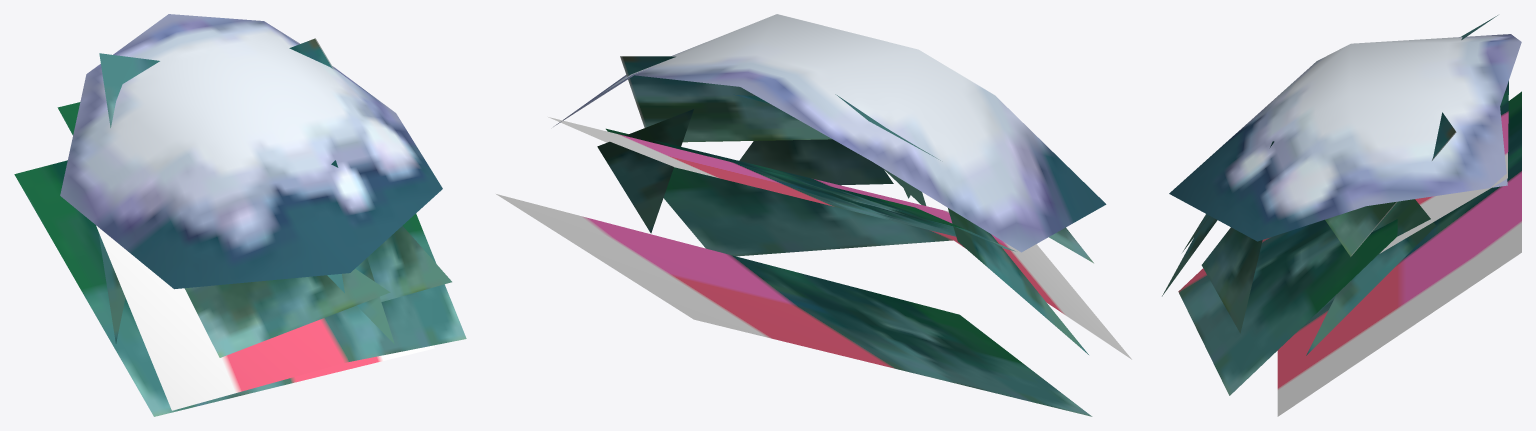
The model's file is fg_bushA_2_s.dae.
3 renders of one model, left to right at view 1: azimuth 30°, elevation 25°; view 2: azimuth 150°, elevation 25°; view 3: azimuth 270°, elevation 25°, orthographic. The views are drawn at different scales.
Visible parts, largest first — view 1: fg_bushA_2_s; view 2: fg_bushA_2_s; view 3: fg_bushA_2_s.
Part boxes in pixels (<box>): fg_bushA_2_s: <box>14,14,466,416</box>; fg_bushA_2_s: <box>496,14,1131,416</box>; fg_bushA_2_s: <box>1162,15,1521,416</box>.
Size of the model in its own units: 42.31 by 35.32 by 38.65.
Materials: 1 (1 with a texture image).
